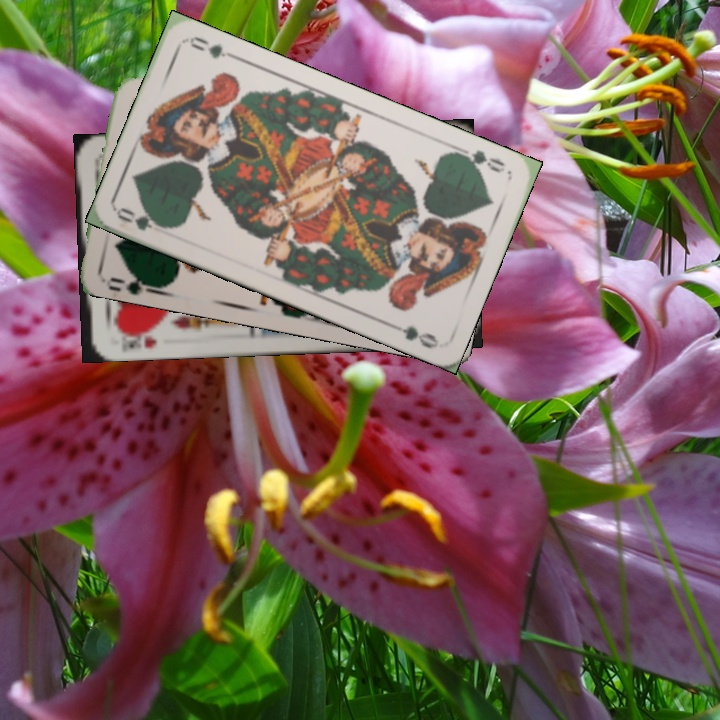GO: (454, 143, 508, 176), (114, 203, 173, 233), (106, 266, 161, 296)
HK: (114, 324, 159, 352)
